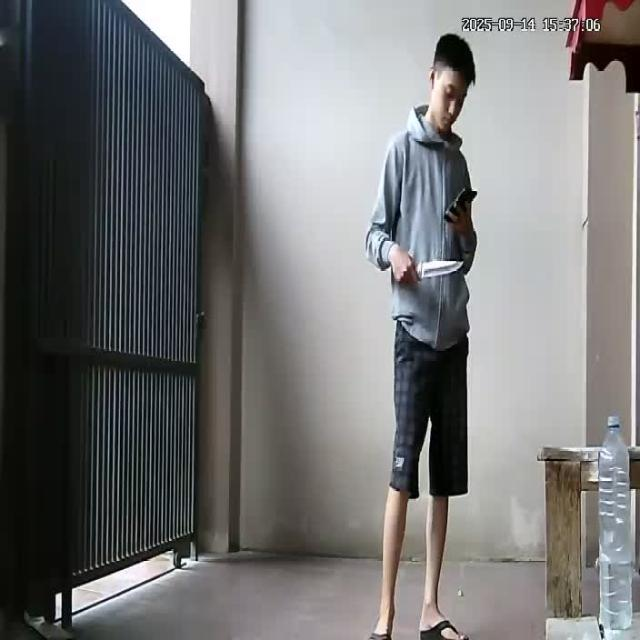senjata_tajam: (415, 254, 466, 280)
